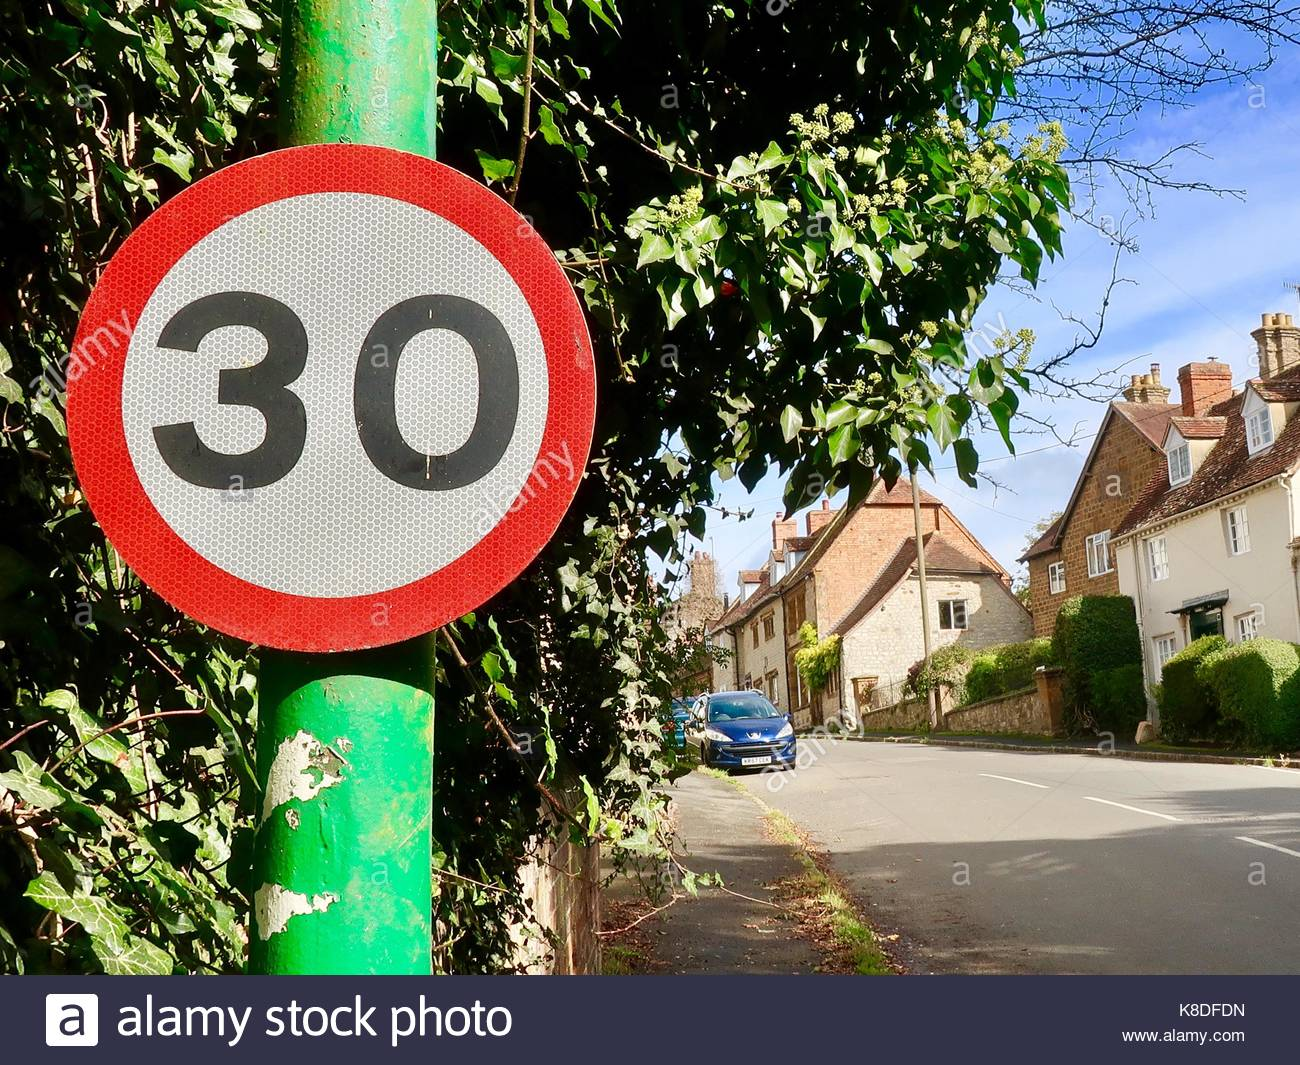Speed_limit_30km: (67, 145, 596, 634)
